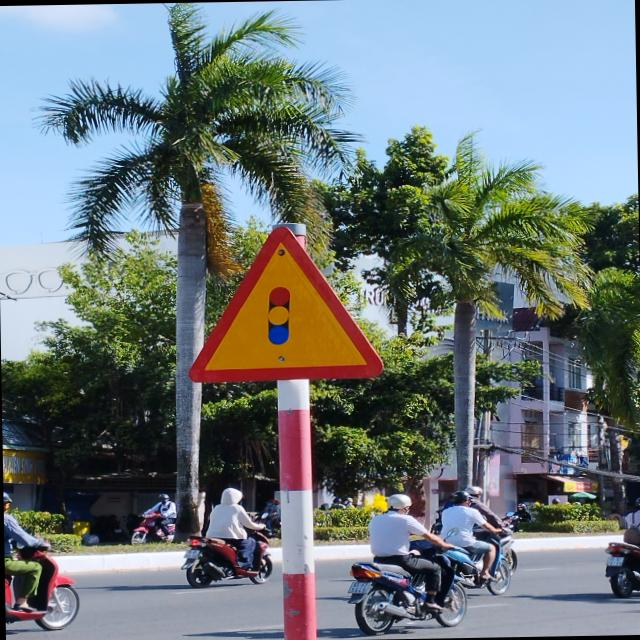Duong_Co_Go_Giam_Toc: (184, 222, 385, 382)
